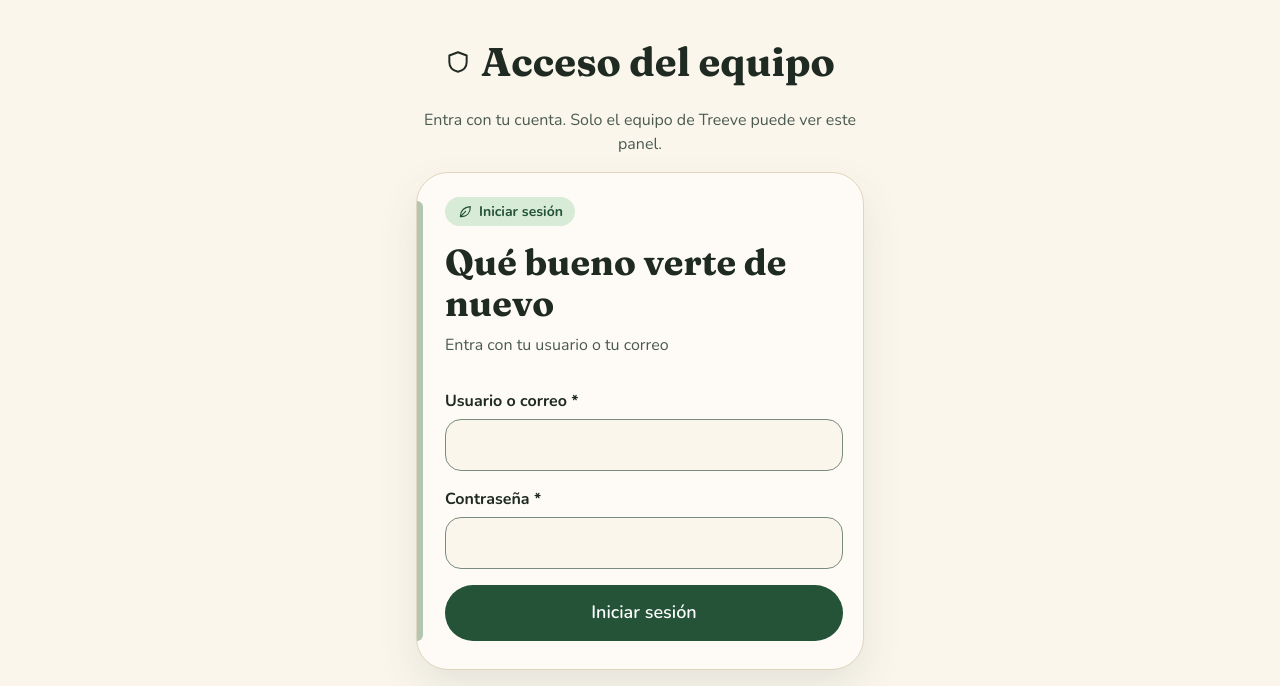
Scenario: HU-10: la zona de staff vive en /staff › al iniciar sesión comprueba el acceso y muestra el panel
Type "juan" into the field labelled "Usuario o correo *" at (644, 445), box [445,419,843,471]
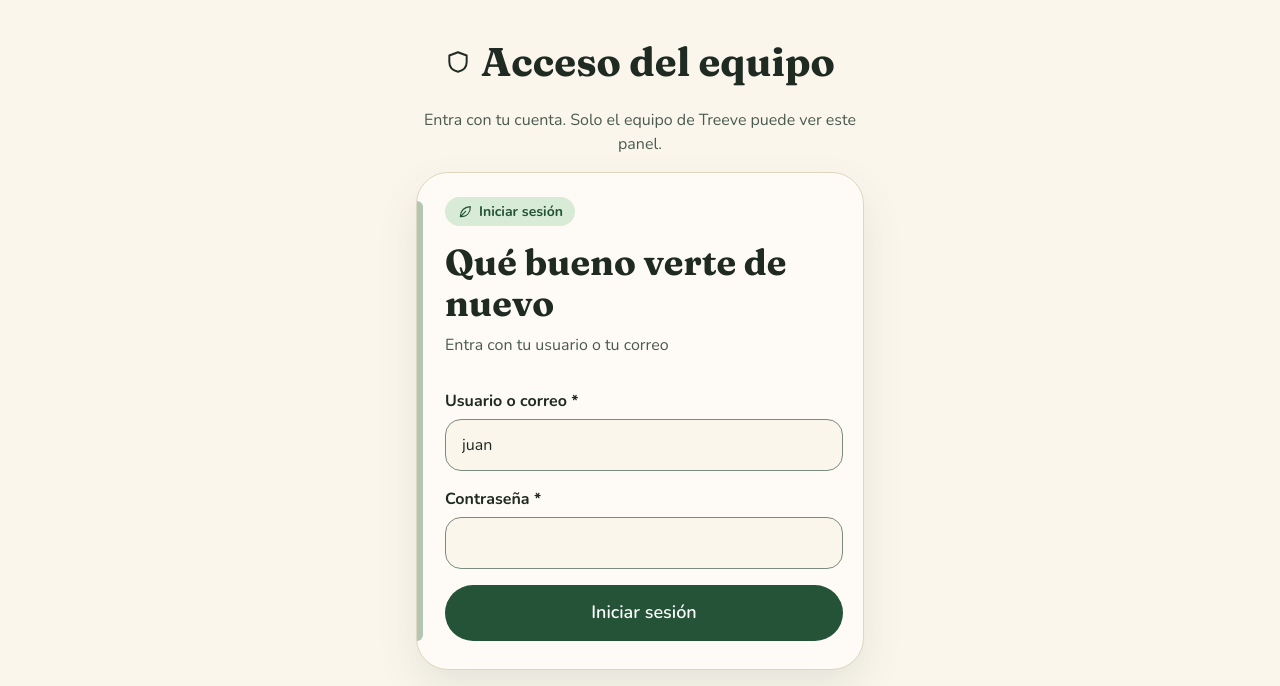
Type "Treeve2026" into the password field labelled "Contraseña *" at (644, 543), box [445,517,843,569]
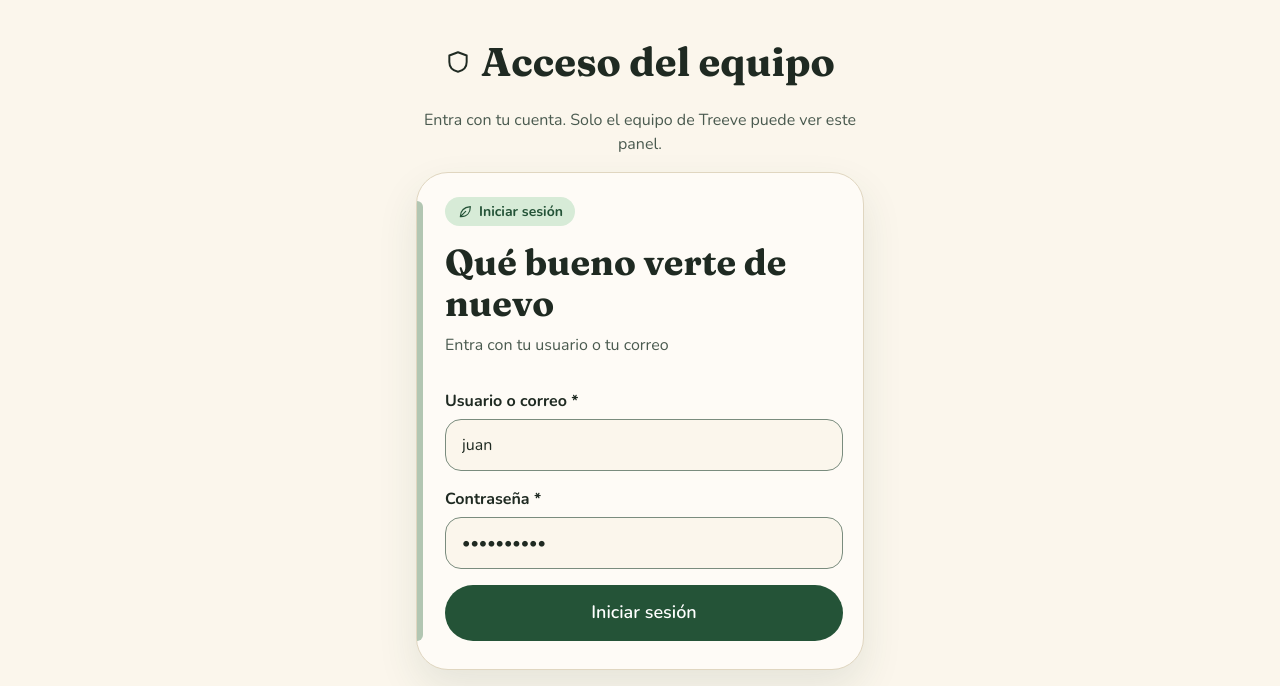
Click the button "Iniciar sesión" at (644, 613), box [445,585,843,641]
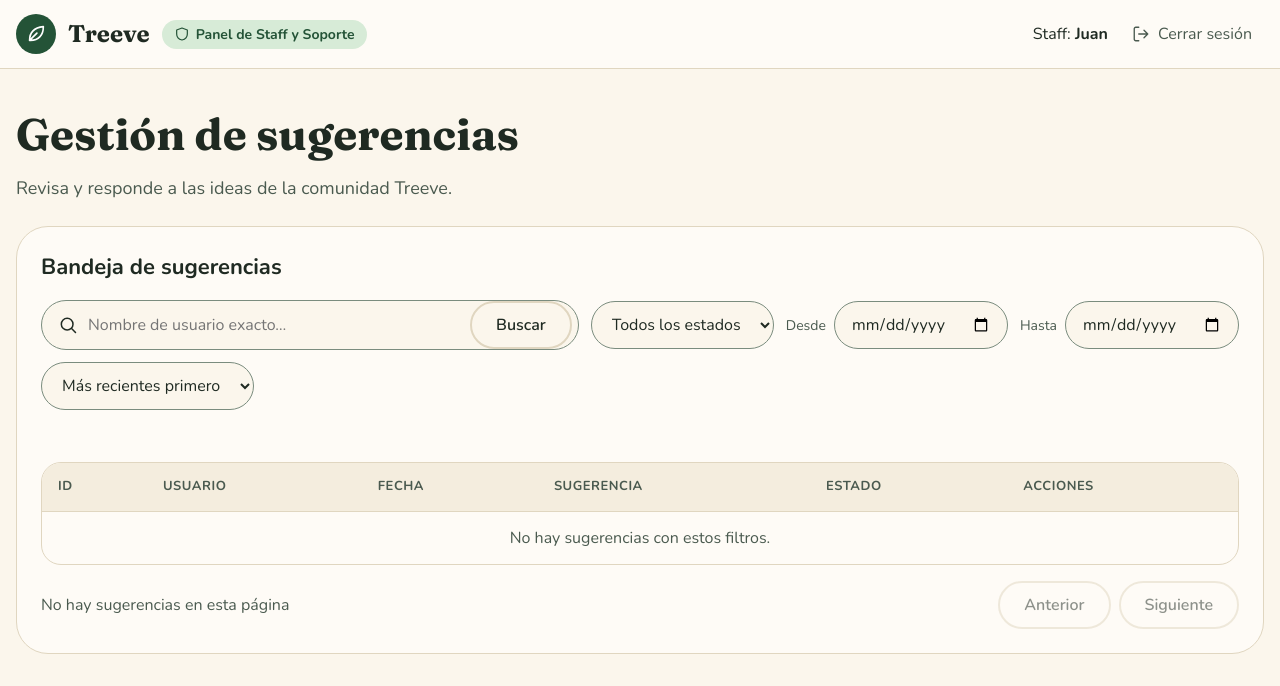
Expected: the heading "Gestión de sugerencias" is shown, [16,107,519,161]
